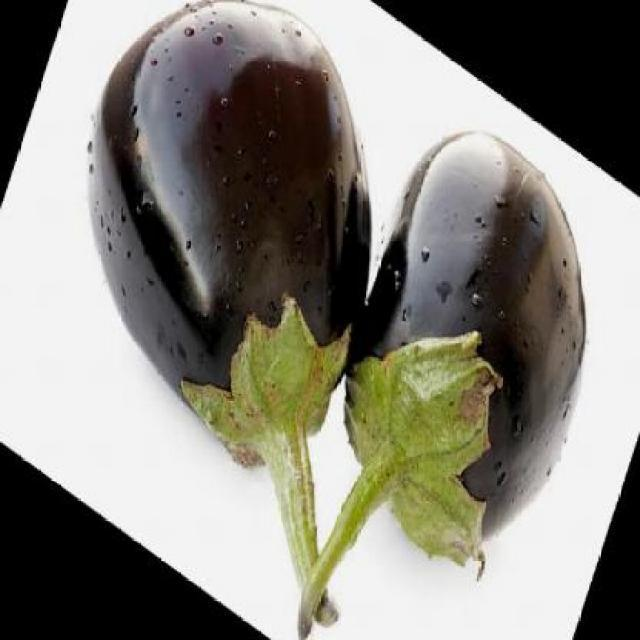eggplant: (4, 0, 490, 638), (257, 83, 634, 639)
